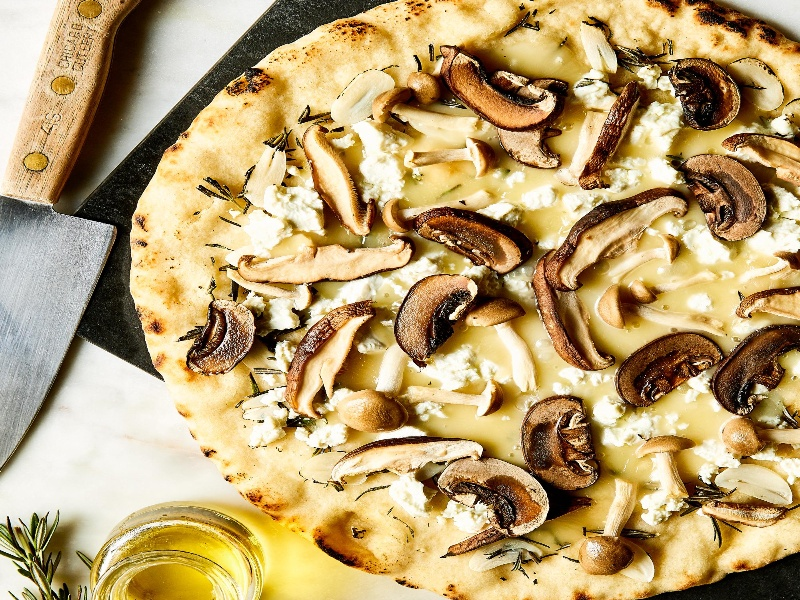champignon: (536, 181, 688, 296), (427, 449, 562, 549), (436, 42, 565, 135), (604, 323, 725, 411), (676, 144, 778, 247), (514, 388, 607, 491), (387, 270, 482, 365), (410, 205, 533, 278), (711, 317, 800, 417), (666, 47, 753, 142), (171, 300, 262, 384)
